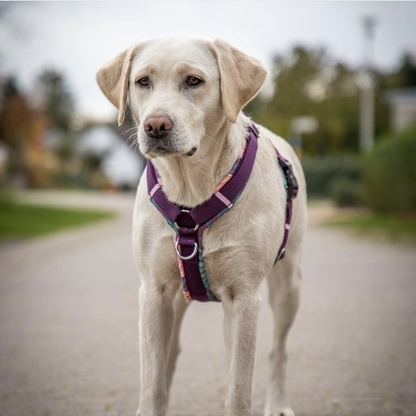labrado: (93, 33, 311, 416)
